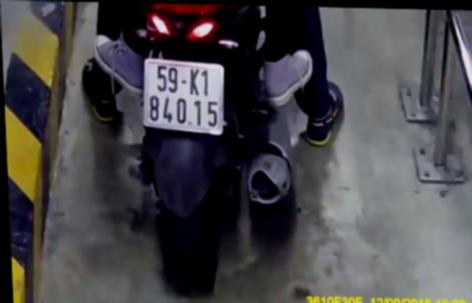License_Plate: (137, 54, 232, 142)
